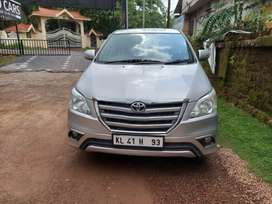KL41M93: (113, 134, 162, 146)
